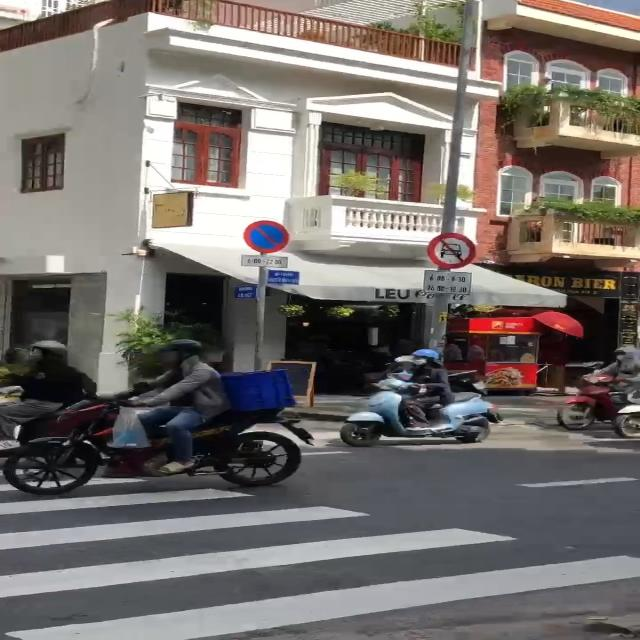Bien bao cam do xe: (237, 218, 300, 258)
Bien bao cam xe oto: (426, 232, 484, 271)
